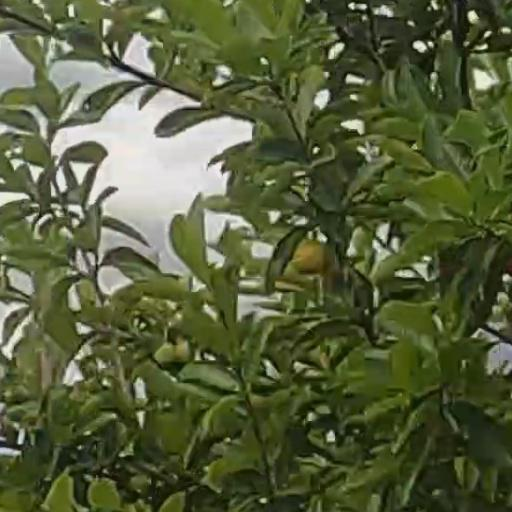acerola_vermelha: (295, 239, 324, 271)
